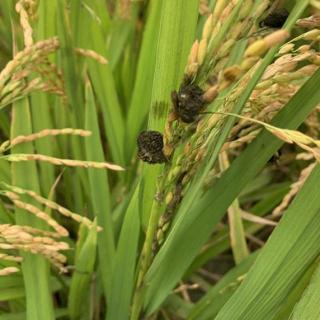Gosong-Palsu: (174, 82, 208, 124), (136, 129, 168, 165), (262, 7, 291, 30)
